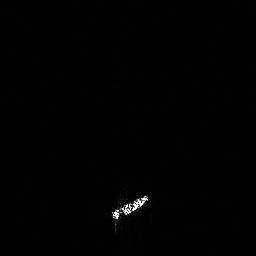ship: (108, 191, 153, 224)
